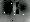person: (14, 3, 19, 15)
